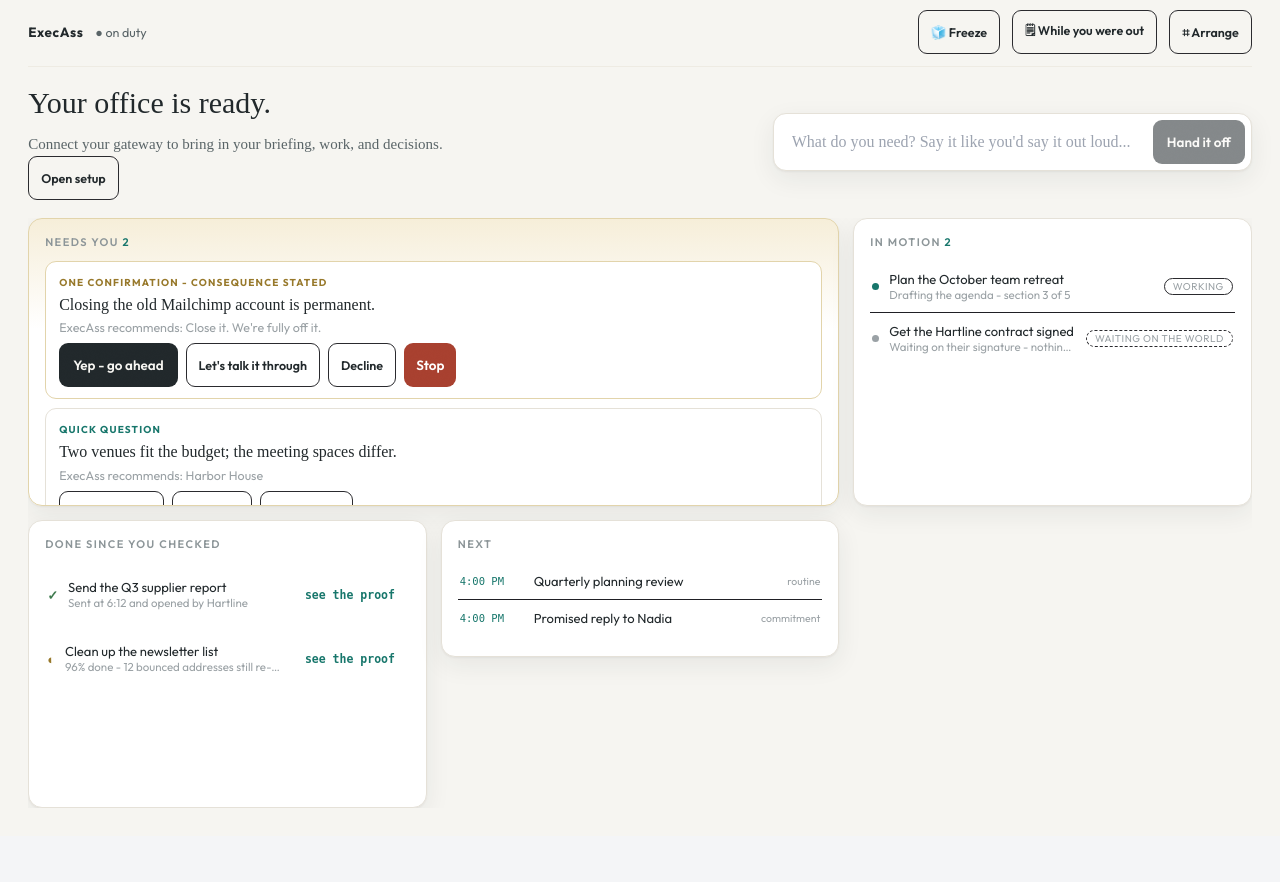
Test case: Office block canvas › refuses a resize that would create rows beyond the fixed canvas
Click the button "⌗ Arrange". click: (1211, 32)
box: [1169,10,1252,54]
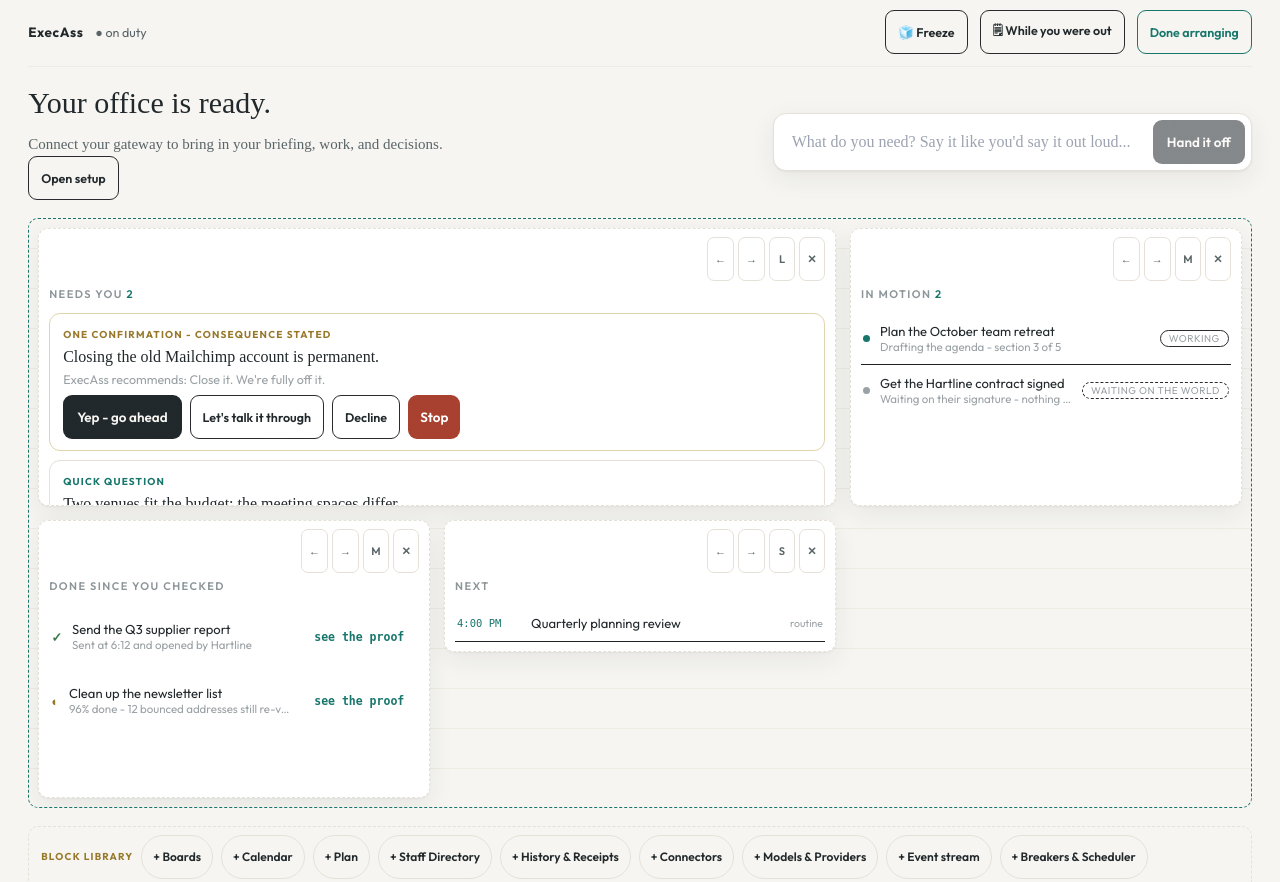
Result: the button "S" is shown
Click the button "S". click: (782, 551)
box: [769,529,795,573]
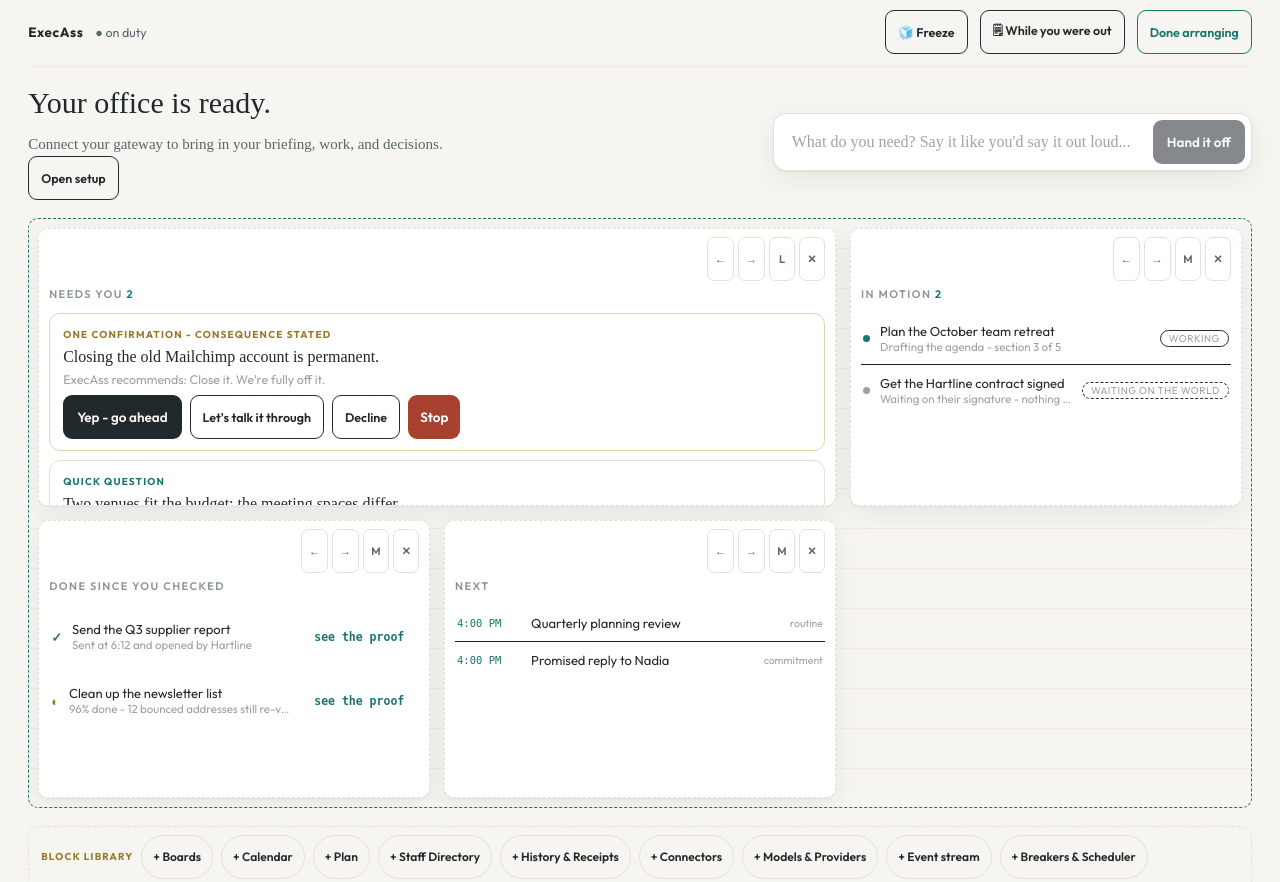
Result: the 3rd button "M" is shown
Click the 3rd button "M". click: (782, 551)
box: [769,529,795,573]
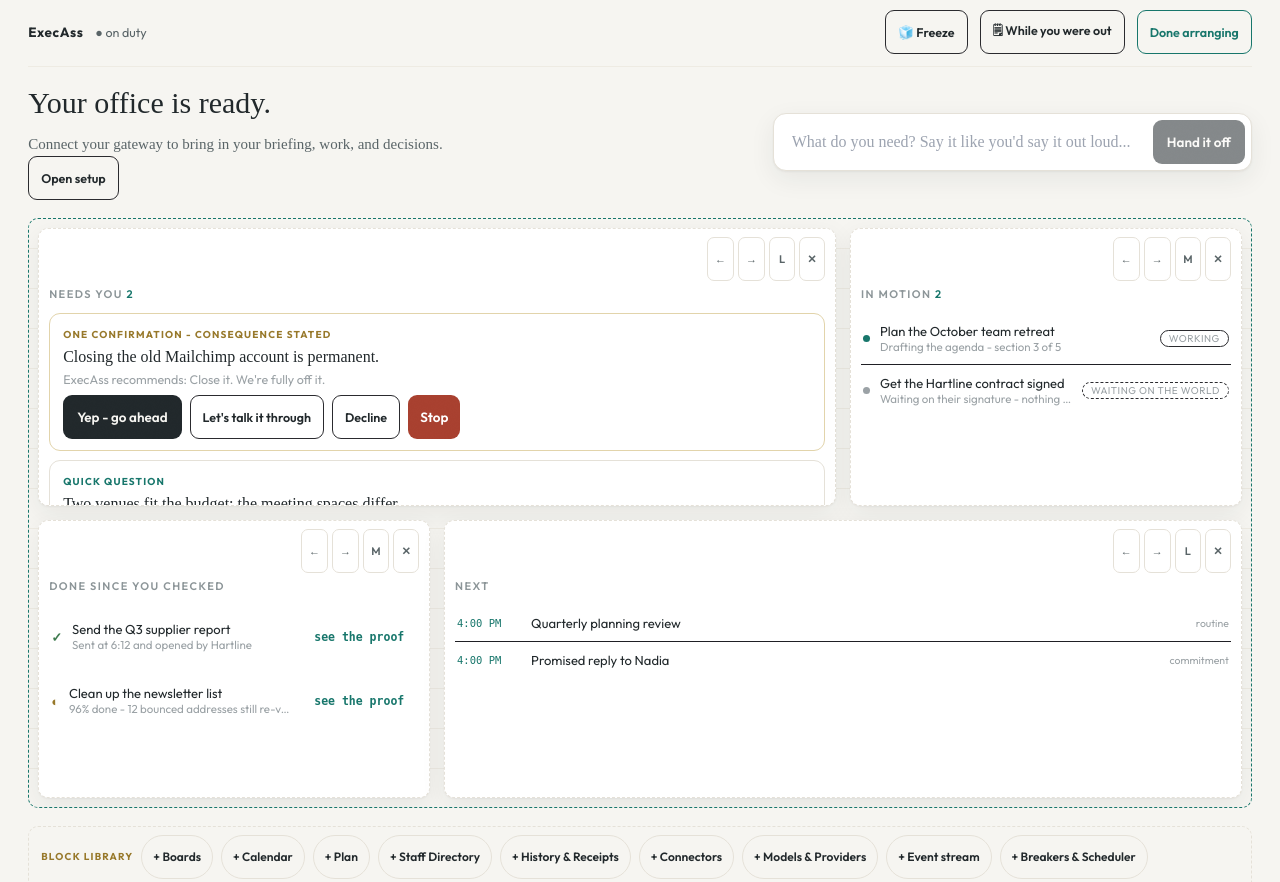
Result: the 1st button "M" is shown
Click the 1st button "M". click: (1188, 259)
box: [1175,237,1201,281]
(page scrolled)
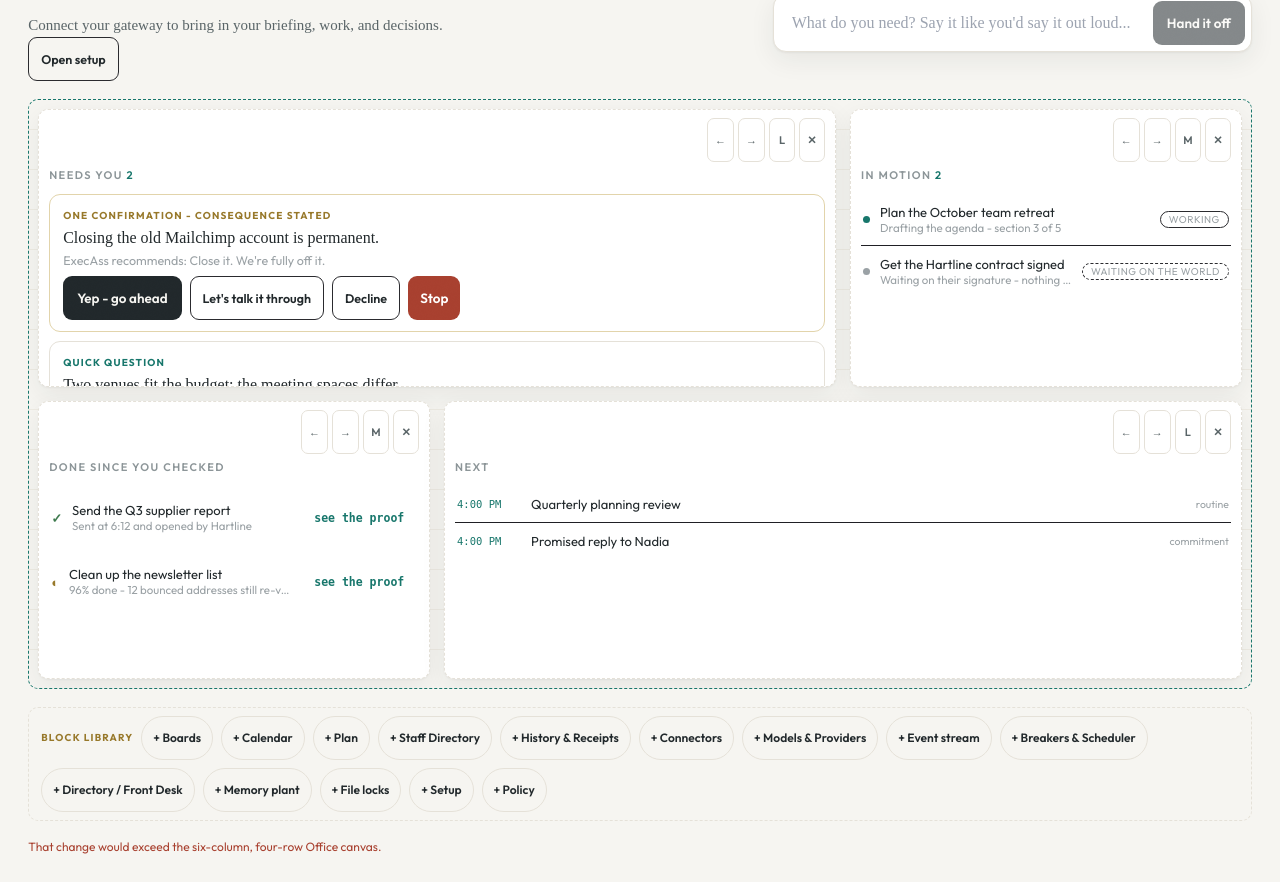
Result: the message "That change would exceed the six-column, four-row Office canvas." is shown at [28,839,382,854]
